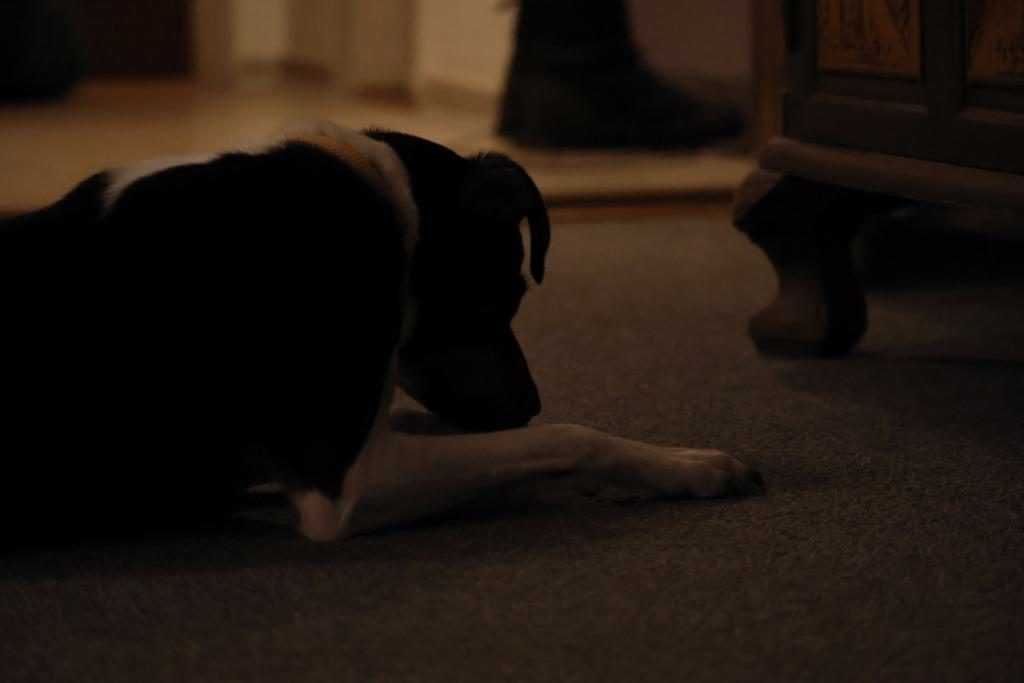Dog: (0, 103, 779, 579)
